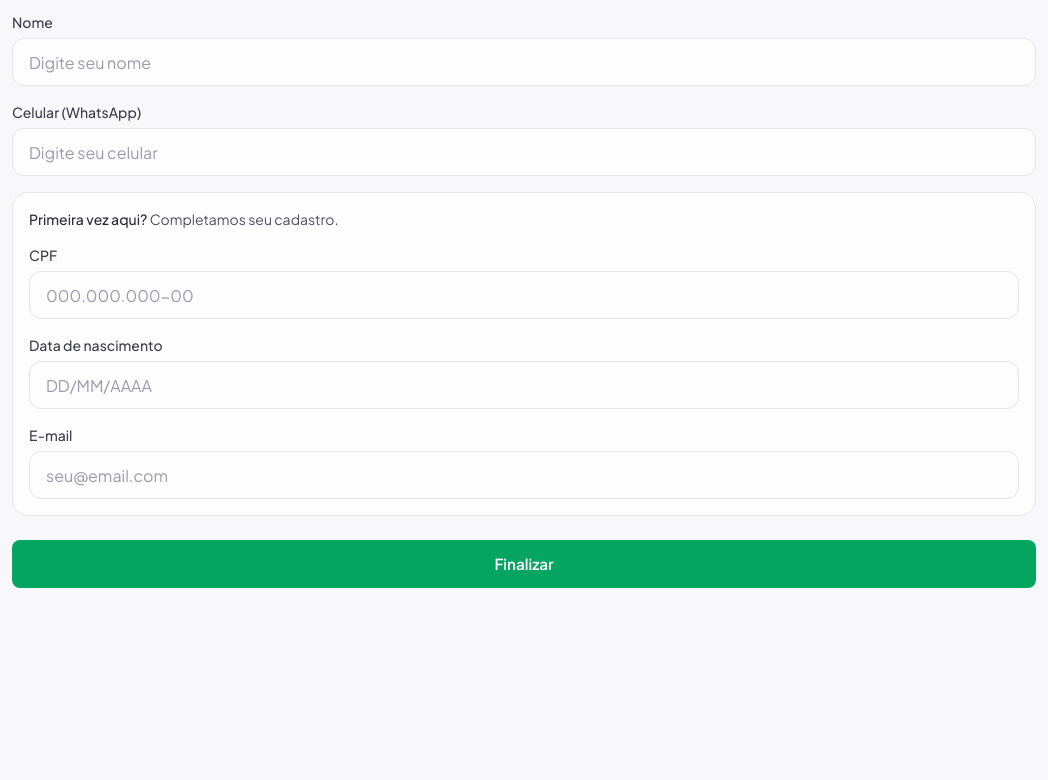
Test: validação e envio › não envia com CPF inválido, data futura ou e-mail sem arroba
In the field labelled "Nome": (524, 62) [12,38,1036,86], type "Maria Silva"
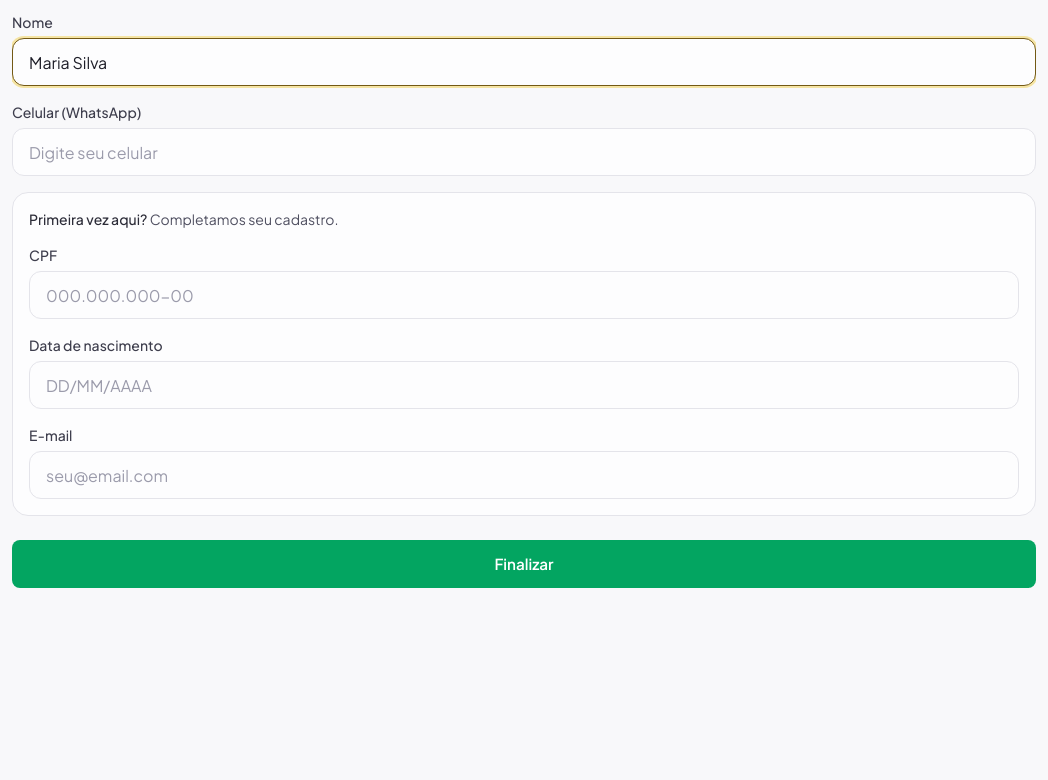
In the field labelled "Celular (WhatsApp)": (524, 152) [12,128,1036,176], type "11987654321"
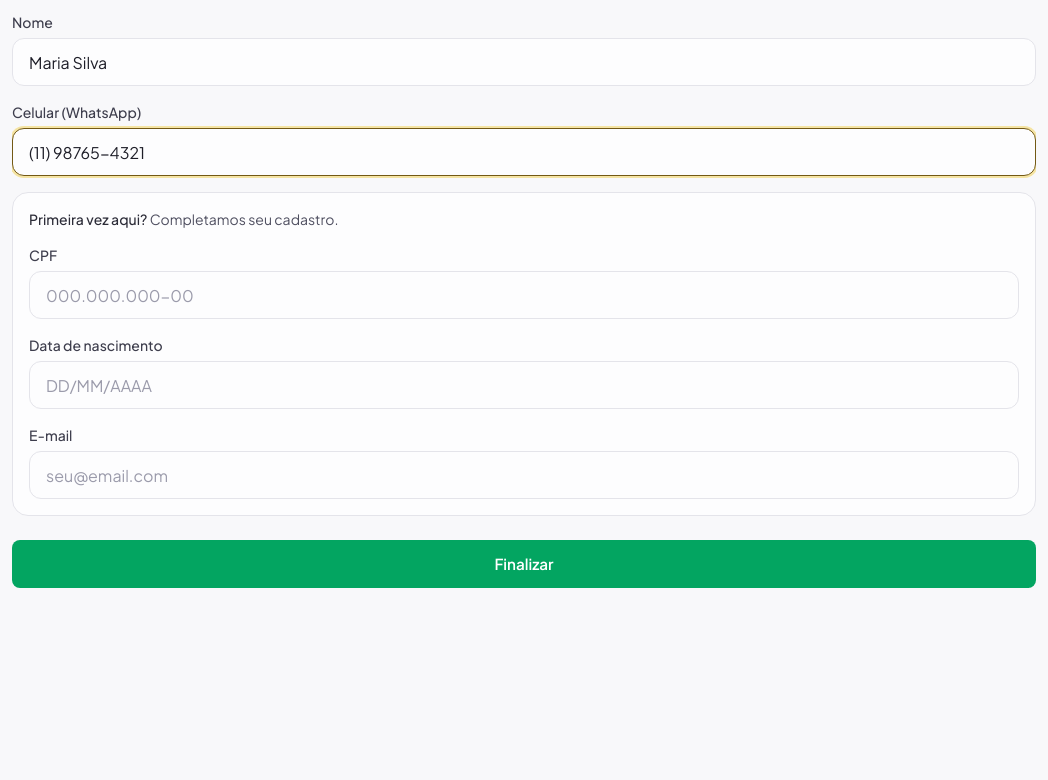
In the field labelled "CPF": (524, 295) [29,271,1019,319], type "11111111111"
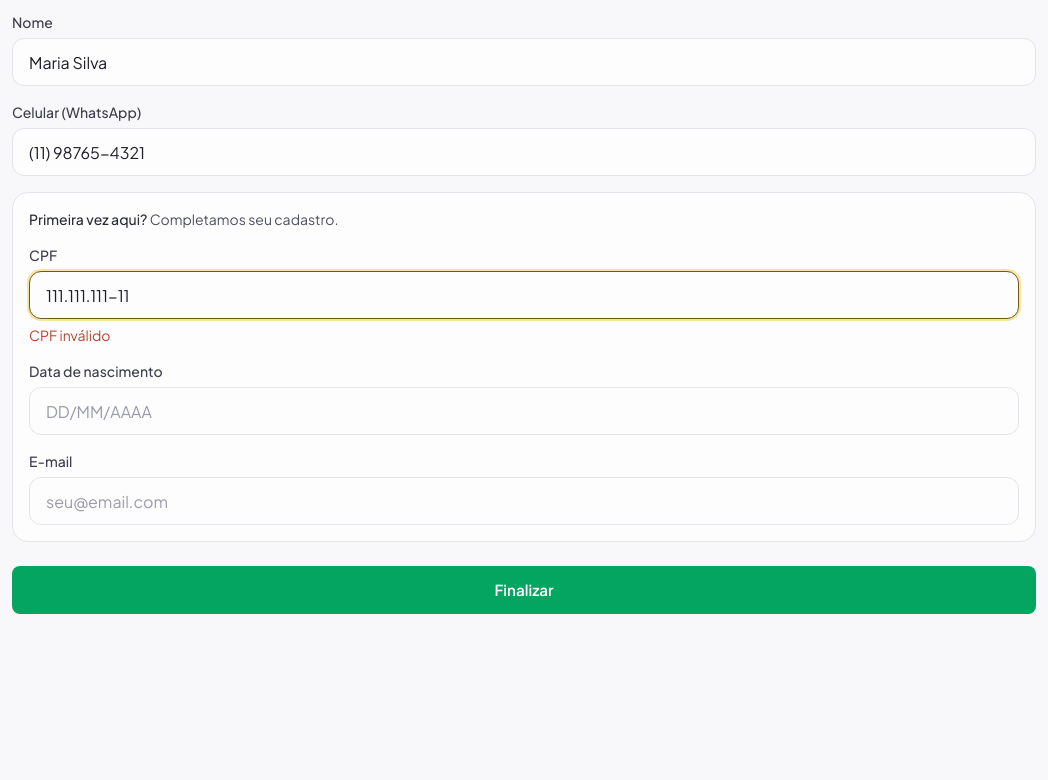
In the field labelled "Data de nascimento": (524, 411) [29,387,1019,435], type "01012099"
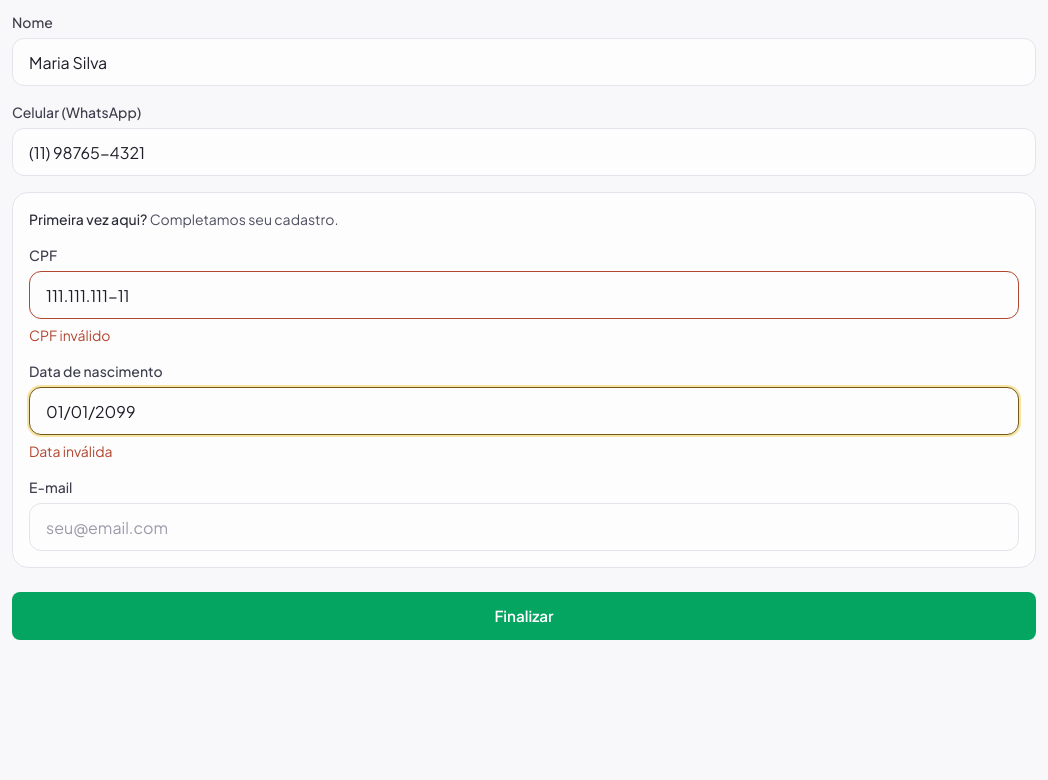
In the field labelled "E-mail": (524, 527) [29,503,1019,551], type "maria"
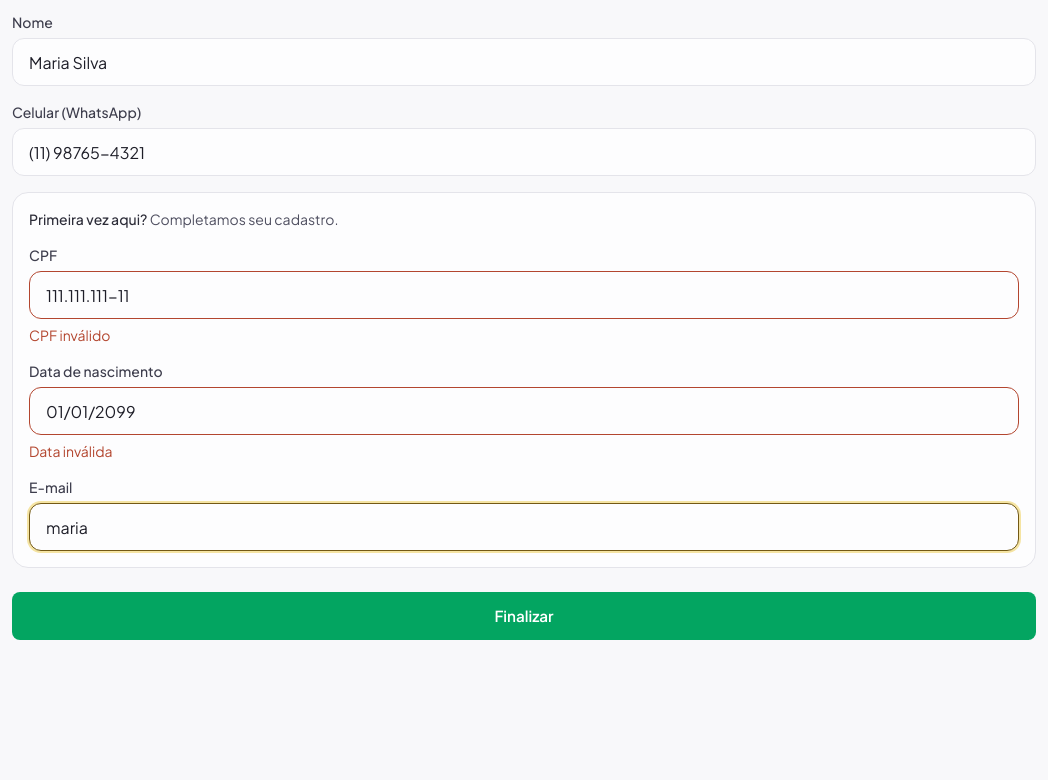
Click the button "Finalizar": (524, 616) [12,592,1036,640]
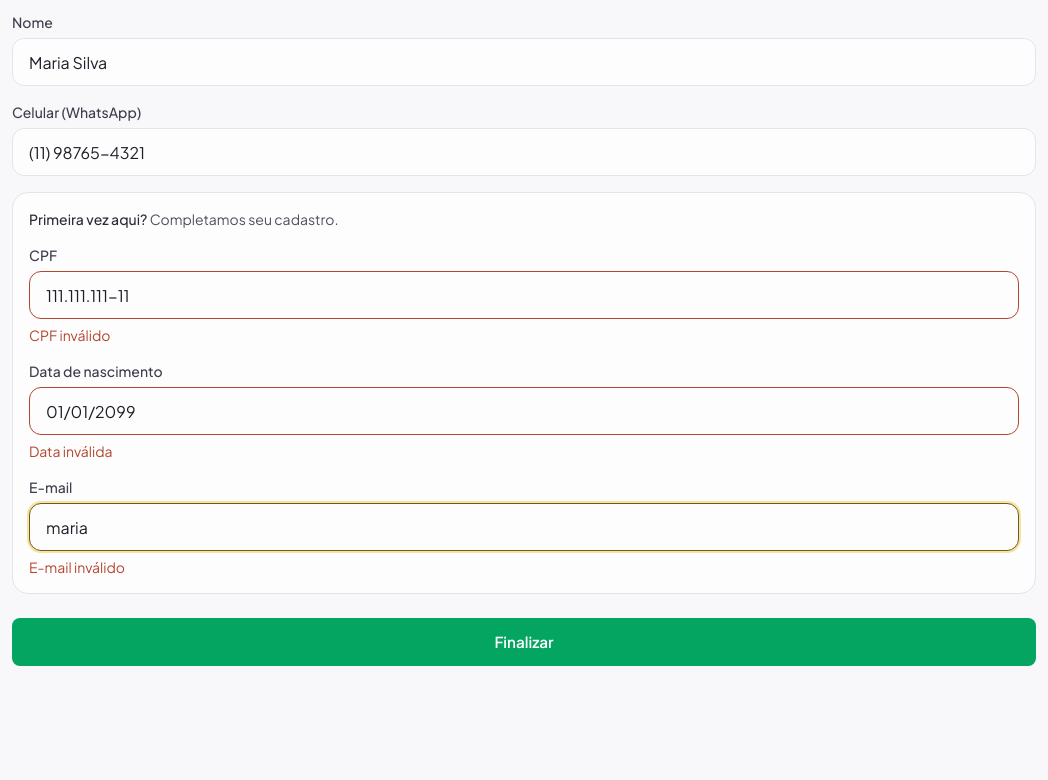
Now the text "CPF inválido" is shown, box [29,326,110,344]
Now the text "Data inválida" is shown, box [29,442,113,460]
Now the text "E-mail inválido" is shown, box [29,558,125,576]
